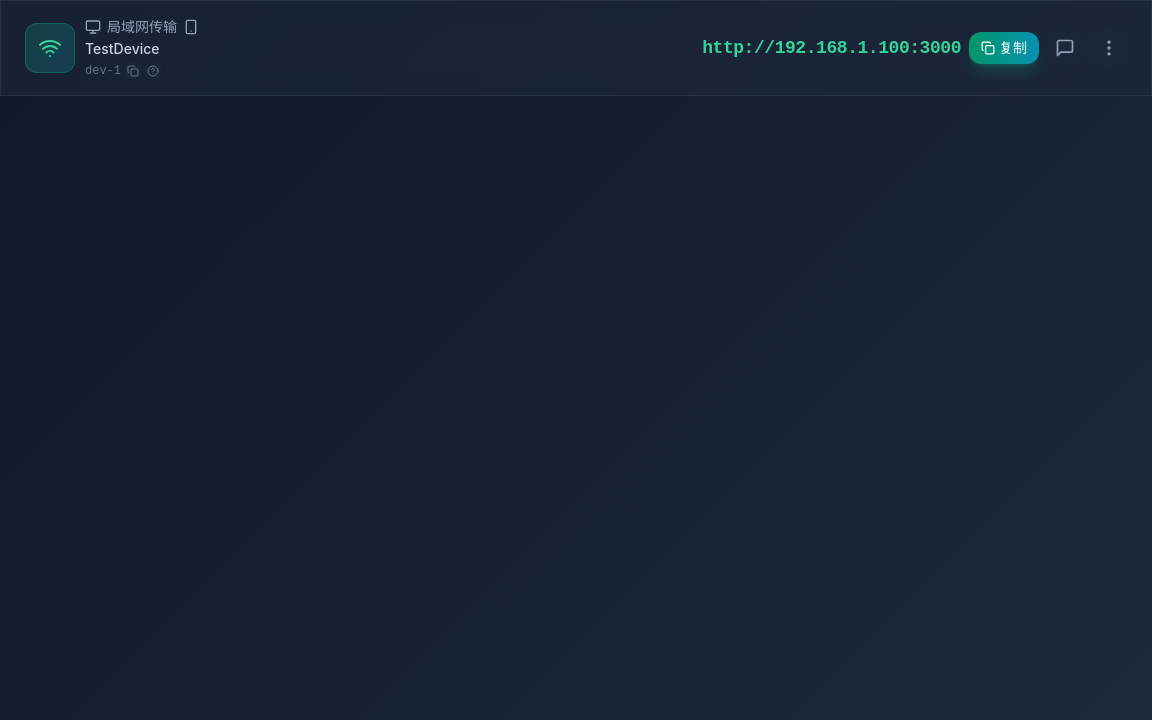
Test: NetworkBar › should show edit name modal on click
Click the button titled "菜单".
click(1109, 48)  # box [1091,30,1127,66]
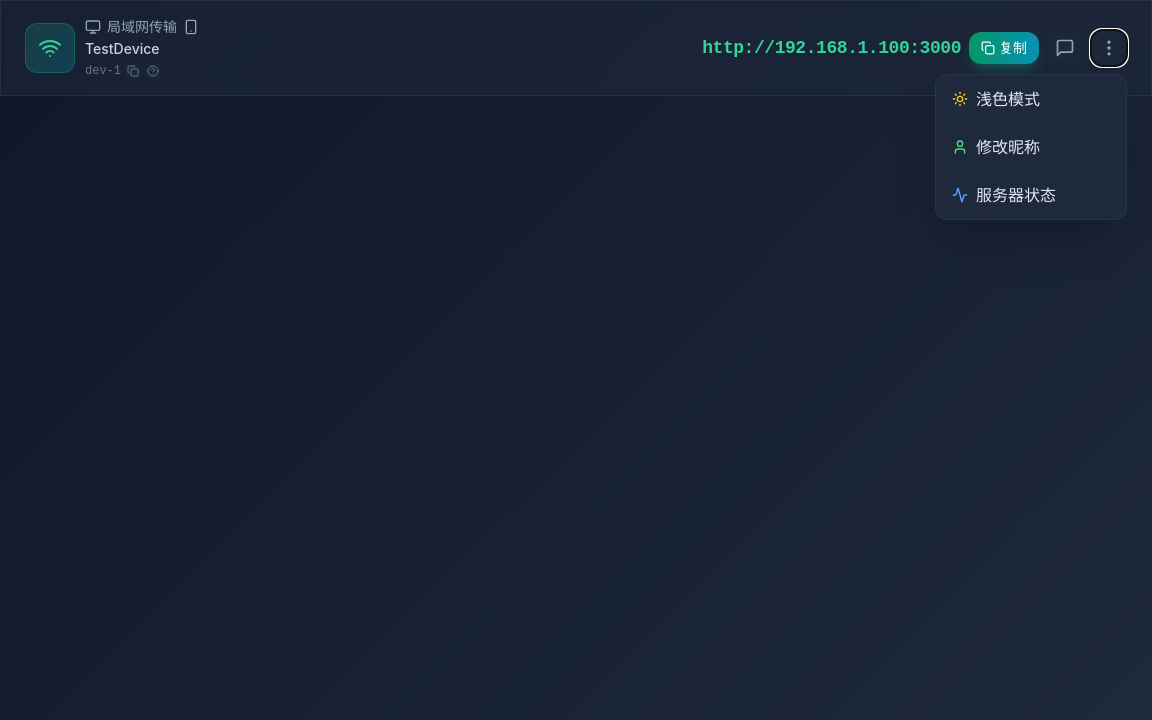
Click the button "修改昵称".
click(1031, 147)  # box [936,123,1126,171]
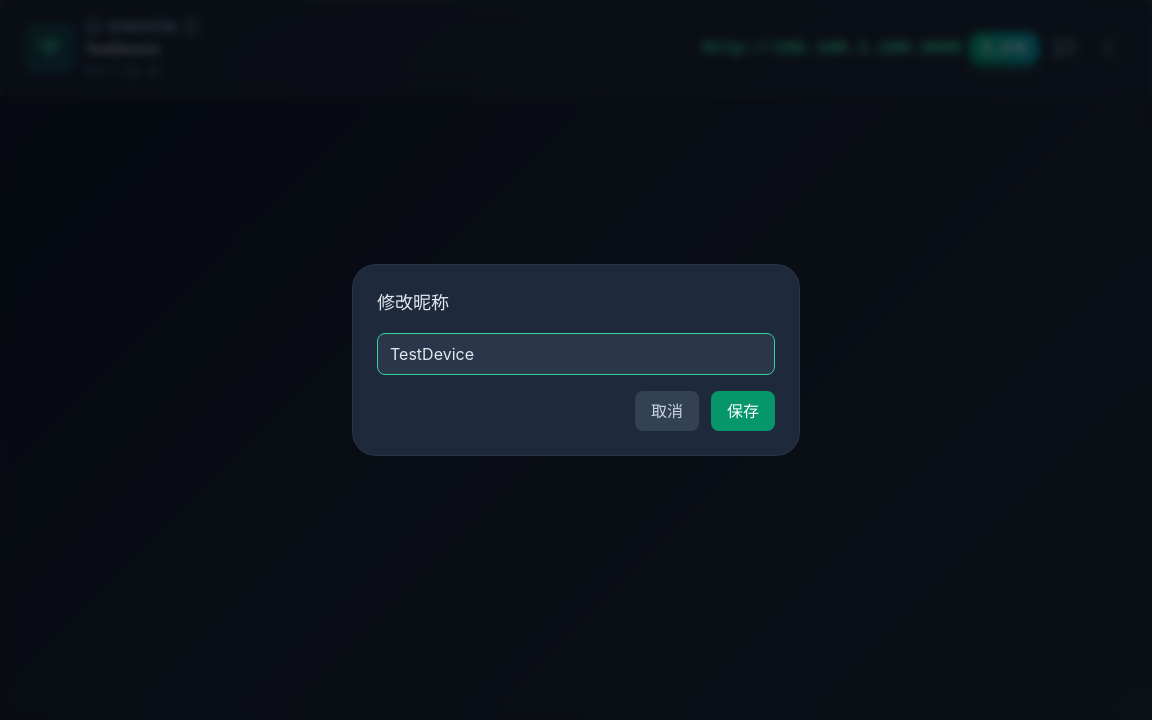
Now the heading "修改昵称" is shown, box [377,292,449,313]
Now the field with placeholder "输入新昵称" is shown, box [377,333,775,375]
